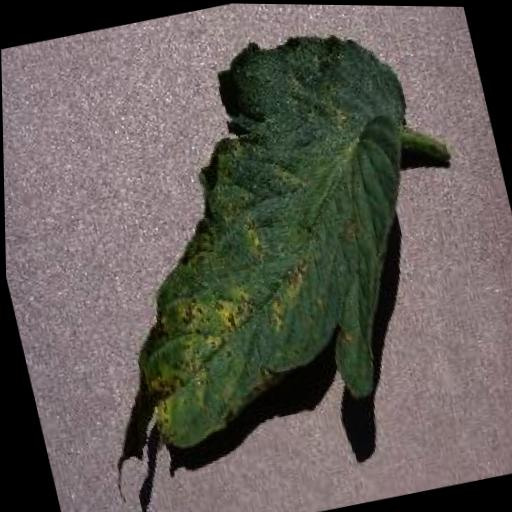Septoria: (20, 14, 465, 467)
